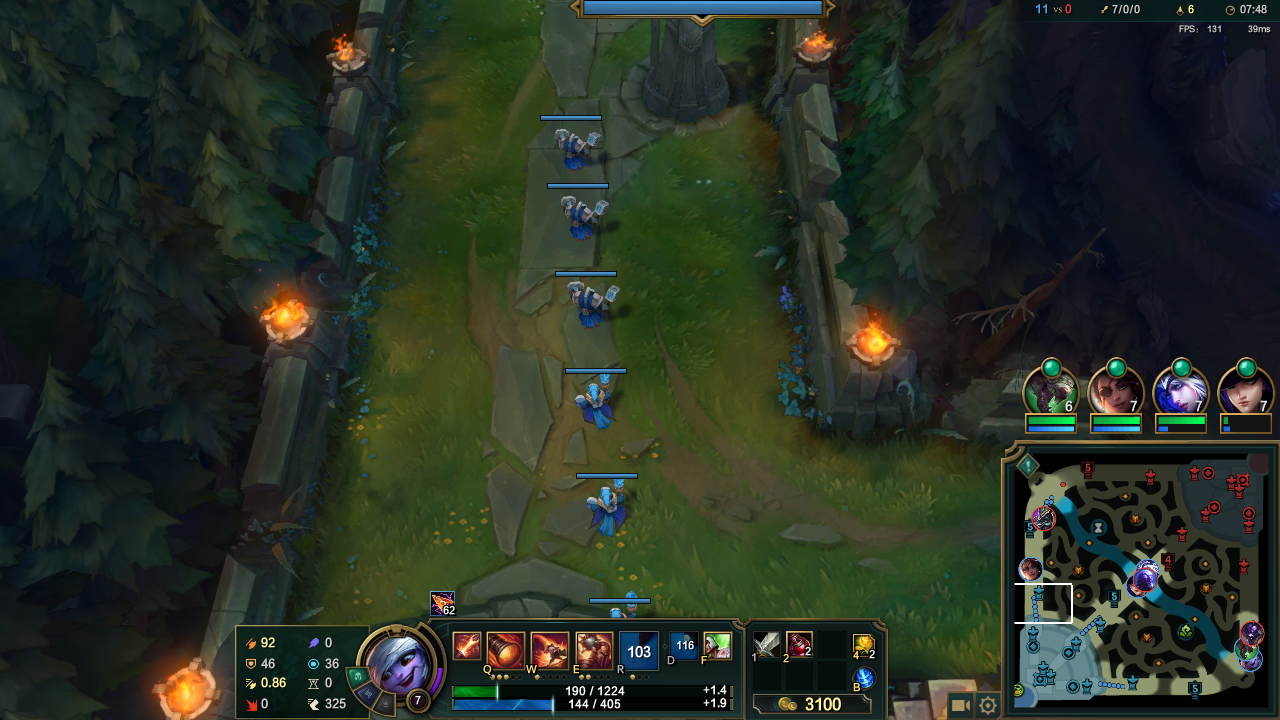WFXB: (568, 372, 627, 436), (584, 481, 639, 543), (561, 279, 624, 328), (555, 196, 616, 244), (547, 128, 606, 173)
Yita: (1186, 674, 1204, 700)
